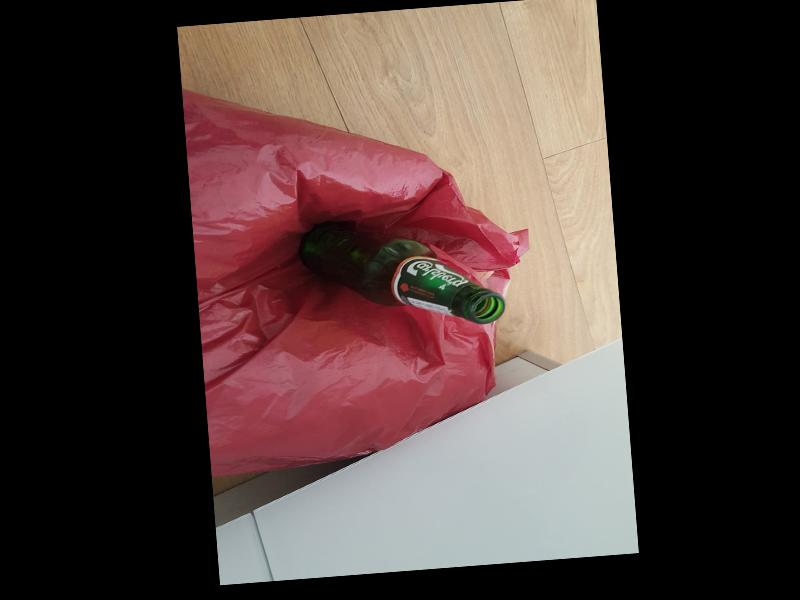Beer: (300, 207, 507, 336)
